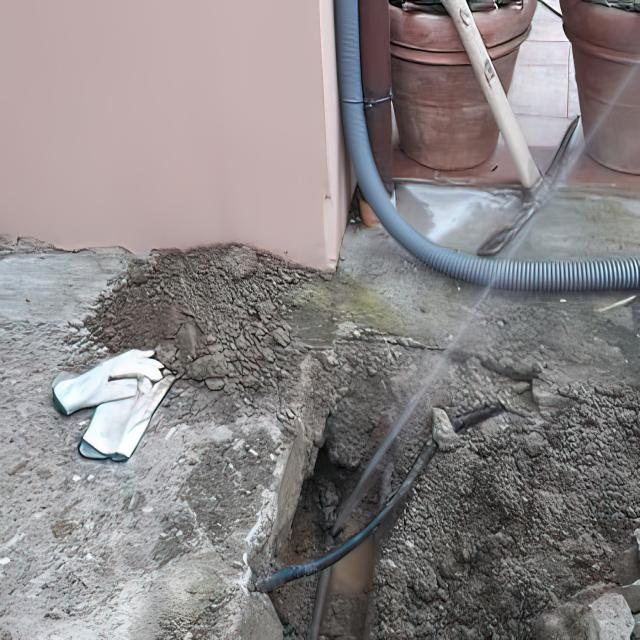leak: (330, 288, 490, 538)
